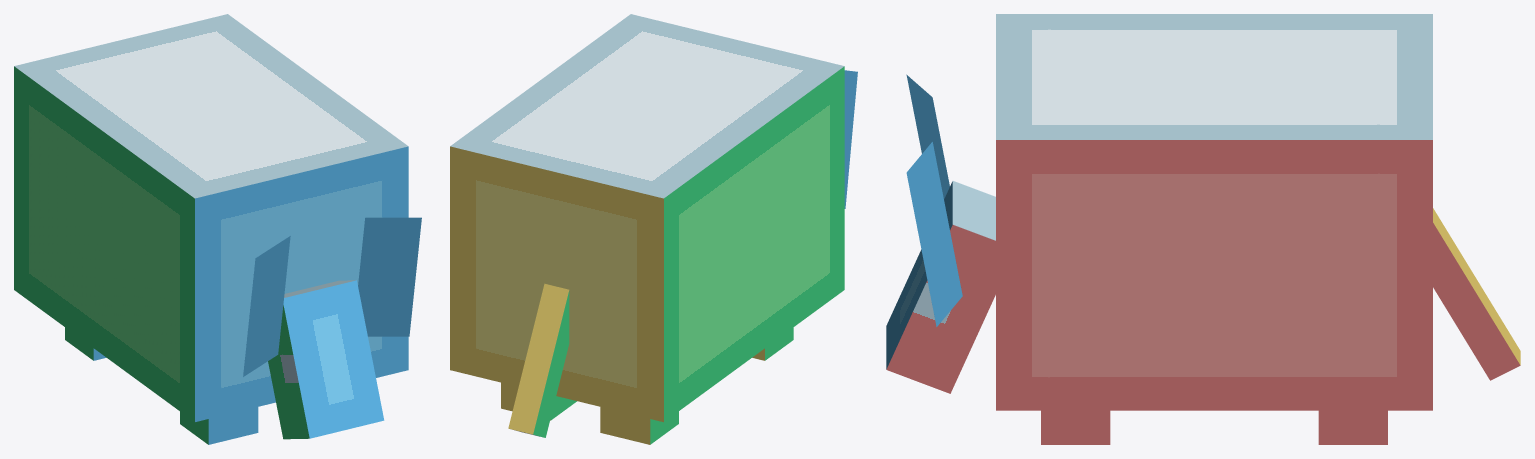
Rendered from snowdillo.gltf.
The picture shows the model from 3 angles, left to right: view 1: azimuth 30°, elevation 25°; view 2: azimuth 150°, elevation 25°; view 3: azimuth 270°, elevation 25°; orthographic projection. The views are drawn at different scales.
Visible parts, largest first — view 1: body, head, left_ear, right_ear, left_front_leg, left_hind_leg; view 2: body, tail, left_hind_leg, right_ear, right_hind_leg, left_front_leg; view 3: body, head, tail, left_ear, right_hind_leg, right_front_leg, right_ear.
Part boxes in pixels (box(x1,y1,x2,y2)): body: box(14, 14, 408, 421); head: box(268, 280, 384, 439); left_ear: box(358, 217, 421, 336); right_ear: box(243, 236, 290, 376); left_front_leg: box(180, 407, 258, 444); left_hind_leg: box(65, 327, 106, 360); body: box(450, 14, 844, 422); tail: box(508, 283, 569, 437); left_hind_leg: box(600, 407, 678, 444); right_ear: box(844, 70, 857, 208); right_hind_leg: box(501, 382, 576, 420); left_front_leg: box(752, 327, 793, 360); body: box(996, 14, 1432, 410); head: box(886, 181, 995, 393); tail: box(1433, 208, 1520, 380); left_ear: box(906, 142, 962, 326); right_hind_leg: box(1318, 410, 1387, 444); right_front_leg: box(1041, 410, 1110, 444); right_ear: box(906, 74, 949, 198).
Bounding box in the file's own units: 0.5375 × 0.6438 × 1.14.
Materials: 1 (1 with a texture image).
